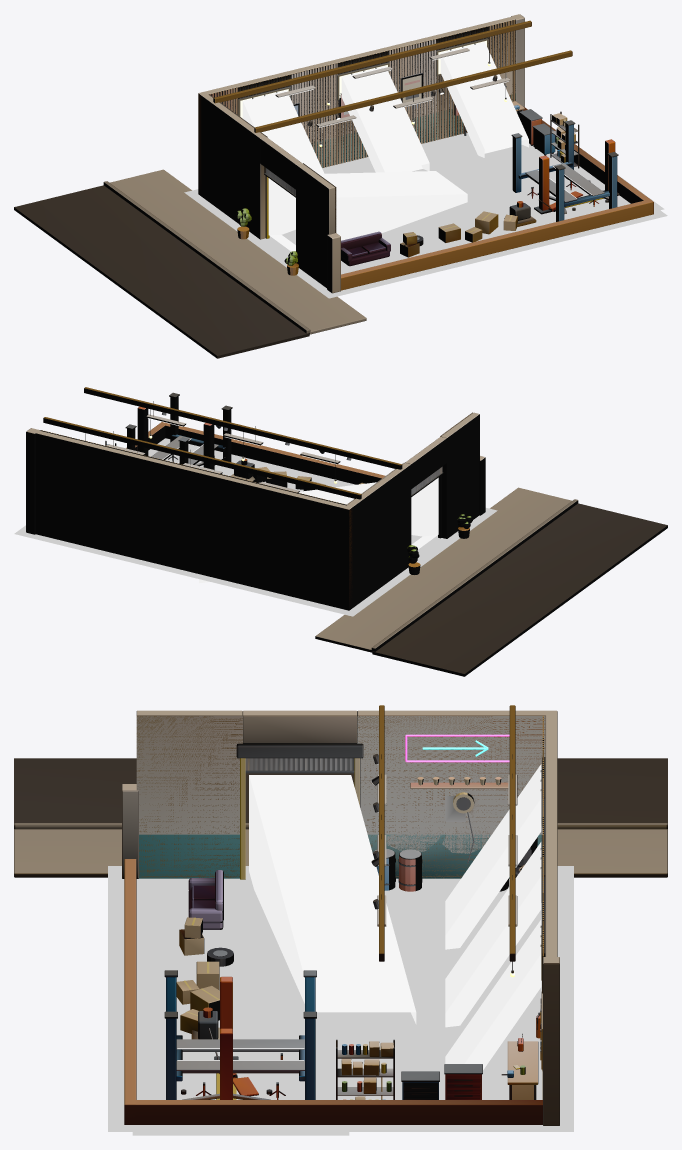
The model's file is mahalle.glb.
3 renders of one model, top to bottom at view 1: azimuth 30°, elevation 25°; view 2: azimuth 150°, elevation 25°; view 3: azimuth 270°, elevation 25°, orthographic. The views are drawn at different scales.
Visible parts, largest first — view 1: Shell, Walls_L3, Decal_Park_L1, Decal_Park_L2, Beam_Door, Beam_Win_7, Beam_Win_11, Walls_L2, Park_L1, Lift_L3, Beam_Win_2, Decal_Walls_L2 (+4 smaller); view 2: Shell, Decal_Walls_L2, Beam_Door, Decal_Park_L1, Lift_L3, Lights_L2, Lift_L2, Decal_Park_L2, Park_L1, Props, Decal_Lift_L2, Walls_L2 (+1 smaller); view 3: Shell, Walls_L2, Decal_Park_L1, Beam_Door, Decal_Walls_L2, Decal_Park_L2, Walls_L3, Decal_Lift_L1, Props, Lift_L3, Beam_Win_7, Beam_Win_2 (+7 smaller).
Boxes of the visible parts, x1,y1,x2,y2 form: Shell: [14, 14, 653, 358]; Walls_L3: [209, 20, 515, 232]; Decal_Park_L1: [270, 133, 598, 274]; Decal_Park_L2: [195, 134, 621, 294]; Beam_Door: [268, 171, 467, 251]; Beam_Win_7: [341, 66, 429, 172]; Beam_Win_11: [440, 42, 528, 157]; Walls_L2: [209, 19, 579, 232]; Park_L1: [341, 201, 536, 266]; Lift_L3: [511, 120, 618, 221]; Beam_Win_2: [242, 90, 324, 173]; Decal_Walls_L2: [184, 143, 667, 298]; Shell: [26, 387, 667, 676]; Decal_Walls_L2: [14, 448, 497, 616]; Beam_Door: [199, 477, 438, 583]; Decal_Park_L1: [59, 448, 437, 610]; Lift_L3: [125, 392, 232, 464]; Lights_L2: [106, 401, 340, 492]; Lift_L2: [137, 406, 214, 469]; Decal_Park_L2: [60, 445, 486, 613]; Park_L1: [230, 458, 364, 490]; Props: [407, 514, 472, 574]; Decal_Lift_L2: [148, 438, 274, 475]; Walls_L2: [40, 412, 472, 505]; Shell: [14, 705, 667, 1125]; Walls_L2: [136, 716, 545, 1099]; Decal_Park_L1: [147, 881, 569, 1097]; Beam_Door: [249, 775, 416, 1024]; Decal_Walls_L2: [108, 866, 573, 1131]; Decal_Park_L2: [115, 873, 569, 1097]; Walls_L3: [136, 716, 545, 1099]; Decal_Lift_L1: [142, 1035, 338, 1131]; Props: [372, 792, 540, 1099]; Lift_L3: [164, 970, 316, 1099]; Beam_Win_7: [445, 842, 541, 1027]; Beam_Win_2: [445, 764, 541, 949].
Size of the model in its own units: 22 by 6.97 by 16.
